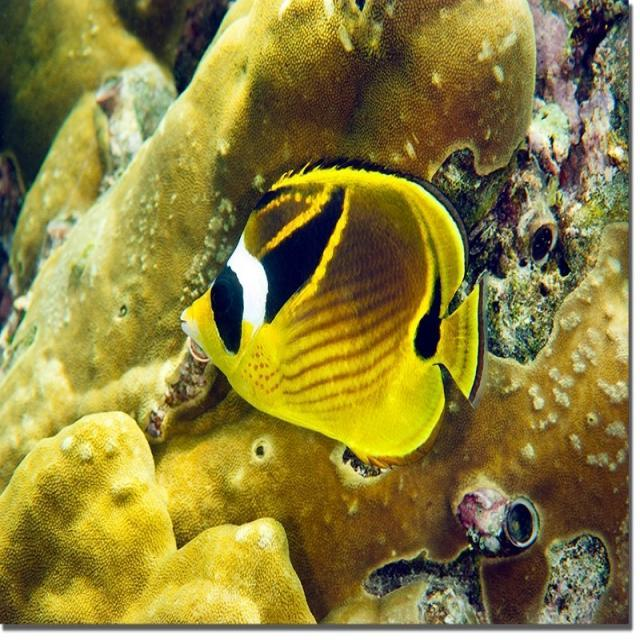ButterflyFish: (148, 142, 512, 472)
